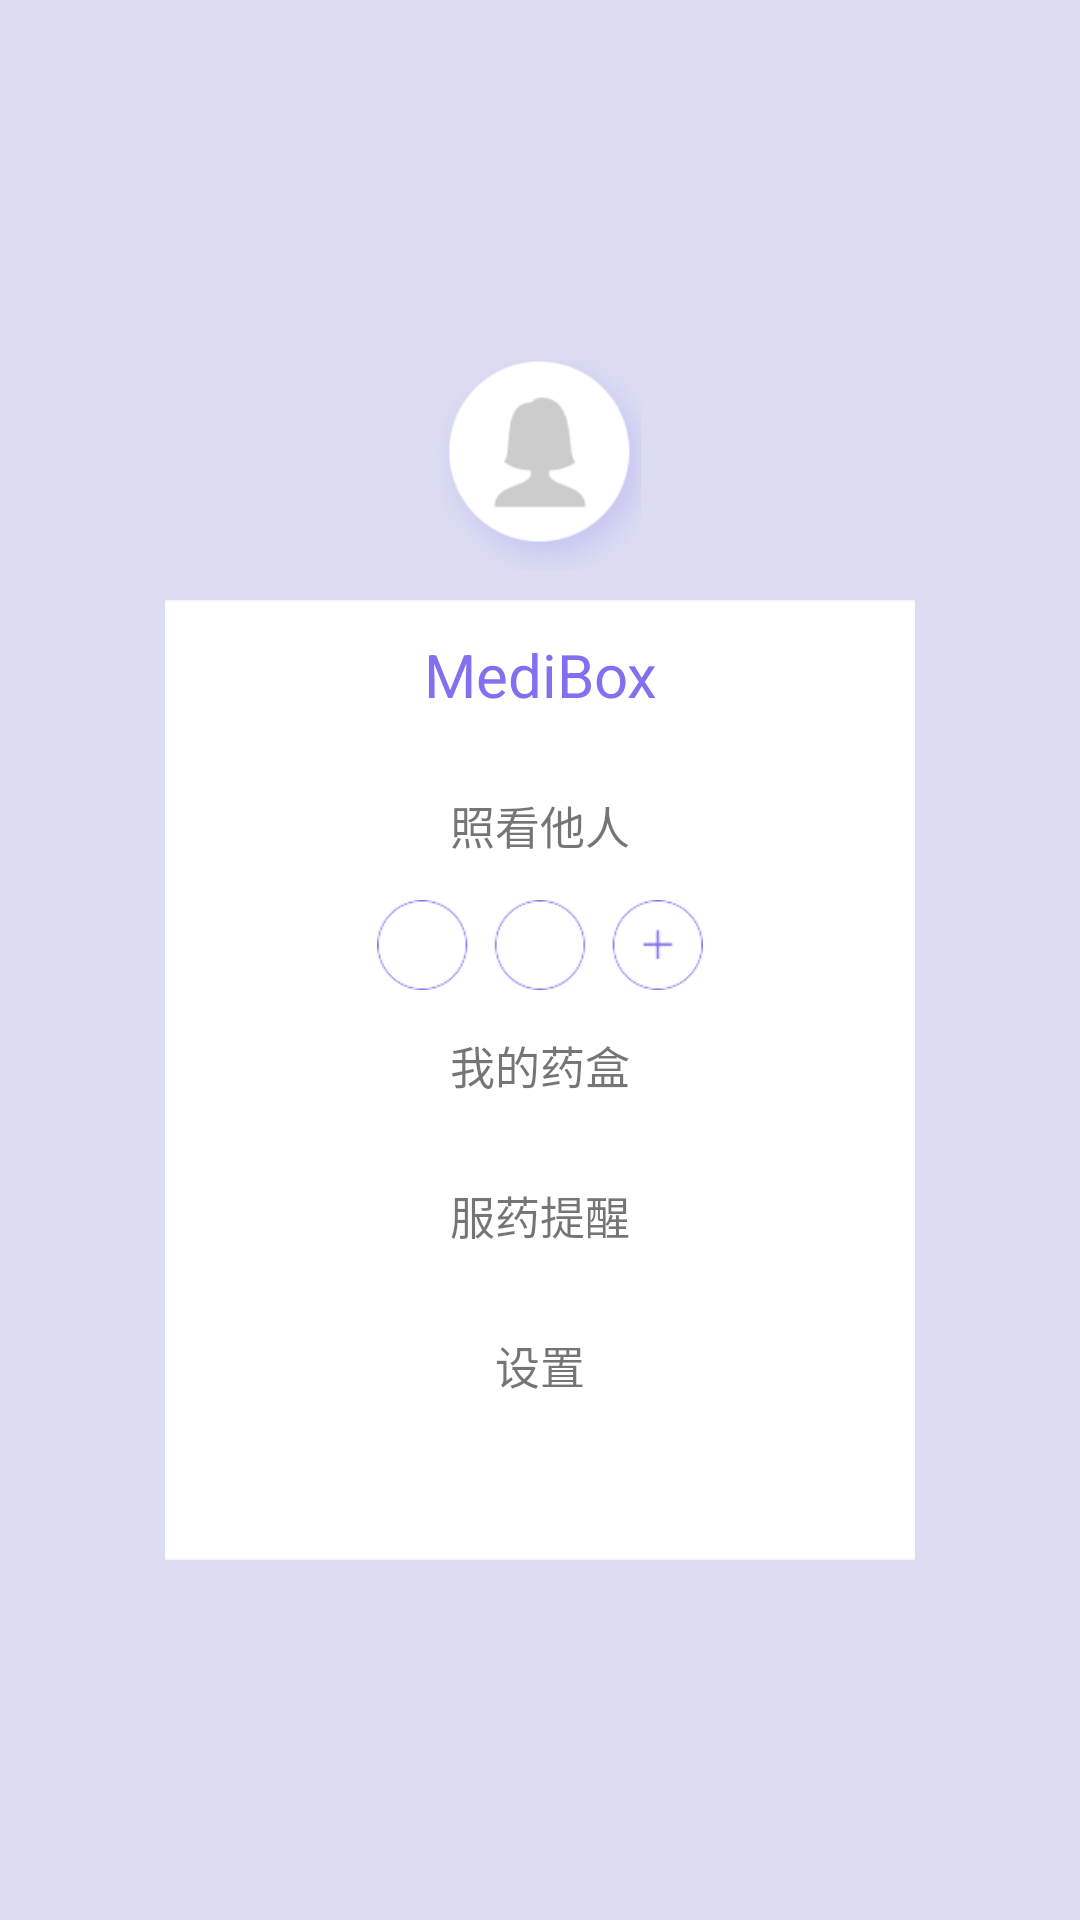

Where to tap for icons on this 1080x1920 app screen, as [x,y]:
touxiang: [539,451]
